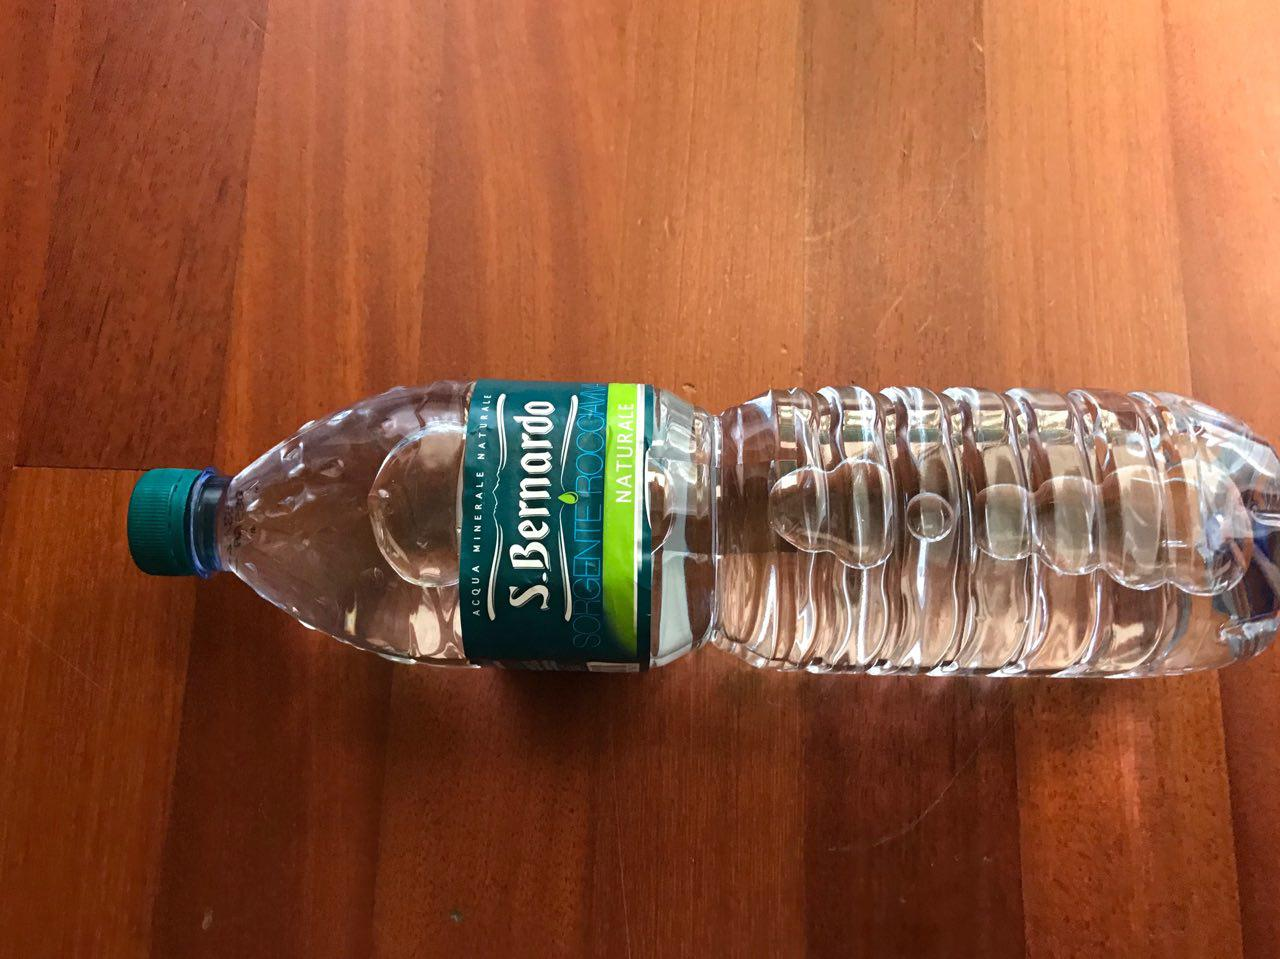san_bernardo: (123, 376, 1280, 683)
